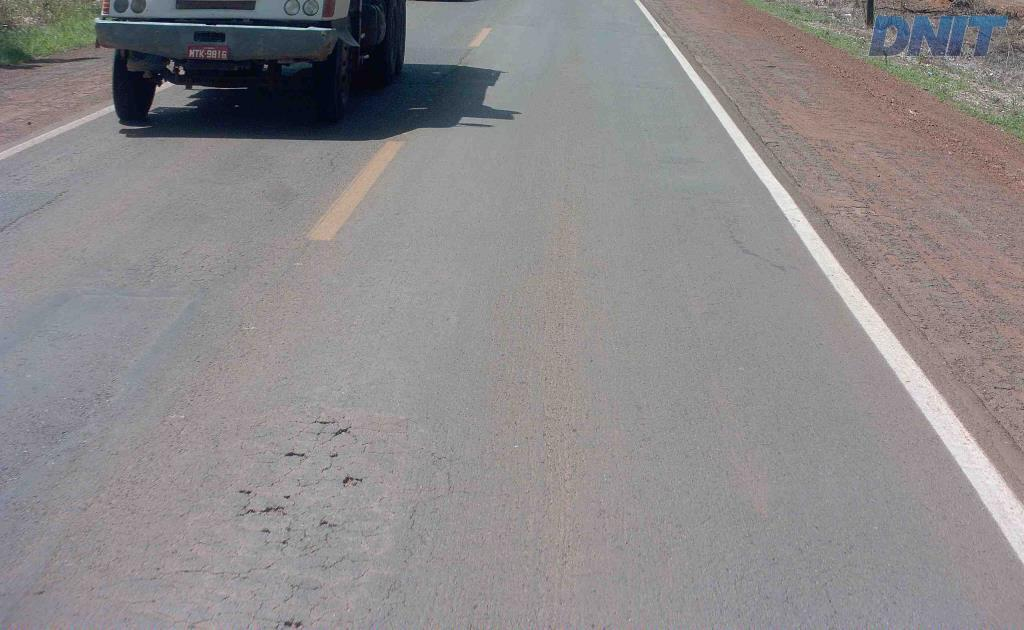pothole: (236, 483, 288, 517), (325, 423, 355, 440), (336, 474, 364, 487), (284, 448, 306, 459)
